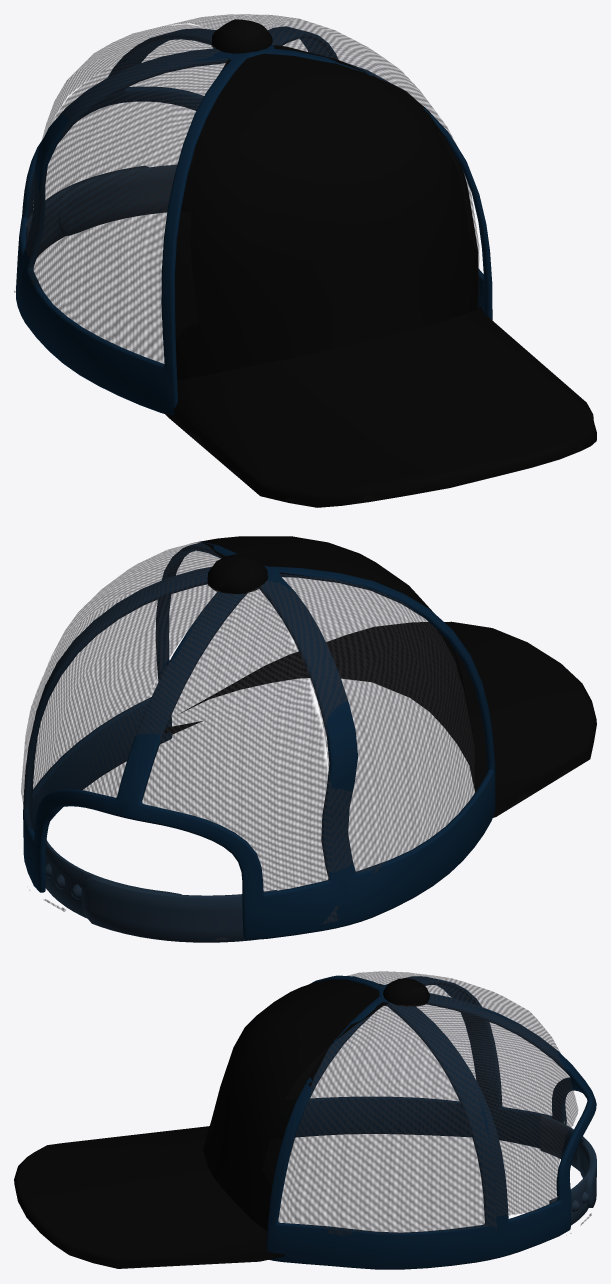
File: gorra.glb
3 views of the same model, one above another, from view 1: azimuth 30°, elevation 25°; view 2: azimuth 150°, elevation 25°; view 3: azimuth 270°, elevation 25° (orthographic). The views are drawn at different scales.
Visible parts, largest first — view 1: C_hat_GEO_0.001, Cap_M01_low; view 2: C_hat_GEO_0.001, Cap_M01_low; view 3: C_hat_GEO_0.001, Cap_M01_low.
Boxes of the visible parts, bbox=[...] form: C_hat_GEO_0.001: bbox=[14, 14, 596, 507]; Cap_M01_low: bbox=[15, 26, 492, 415]; C_hat_GEO_0.001: bbox=[21, 536, 596, 939]; Cap_M01_low: bbox=[23, 542, 495, 942]; C_hat_GEO_0.001: bbox=[14, 971, 591, 1268]; Cap_M01_low: bbox=[266, 975, 596, 1269].
Bounding box in the file's own units: 1.79 × 1.36 × 3.14.
3 materials, 3 textured.
